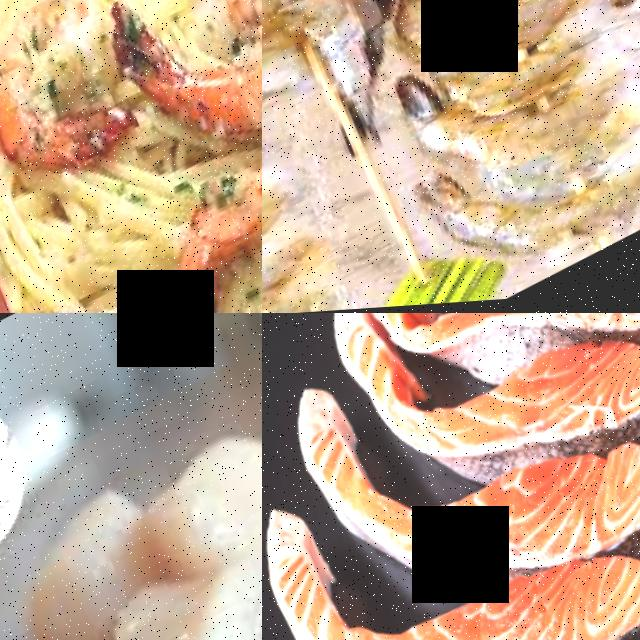salmon: (426, 313, 640, 513), (396, 439, 624, 625), (393, 549, 640, 640)
sea scallops: (123, 405, 262, 603), (91, 533, 262, 640)
spinach: (0, 0, 157, 204), (102, 0, 262, 176), (122, 128, 262, 313)
